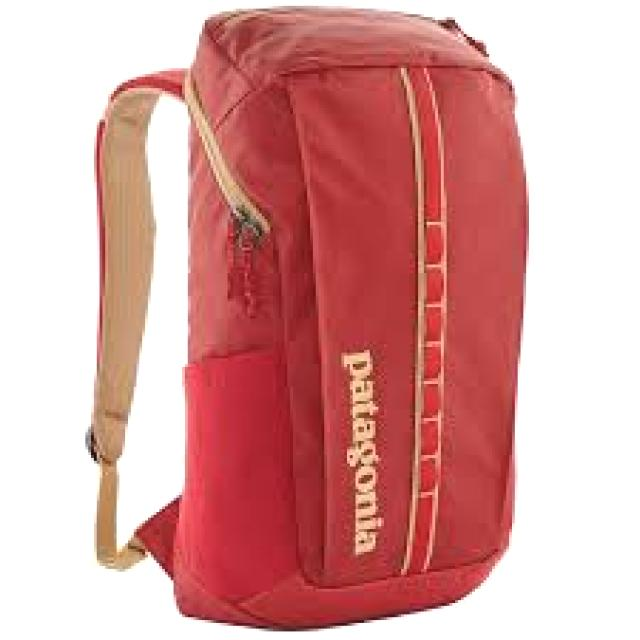backpack: (84, 4, 530, 630)
